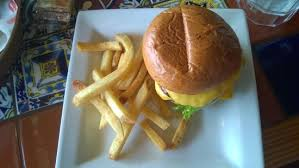hamburger: (141, 5, 248, 107)
